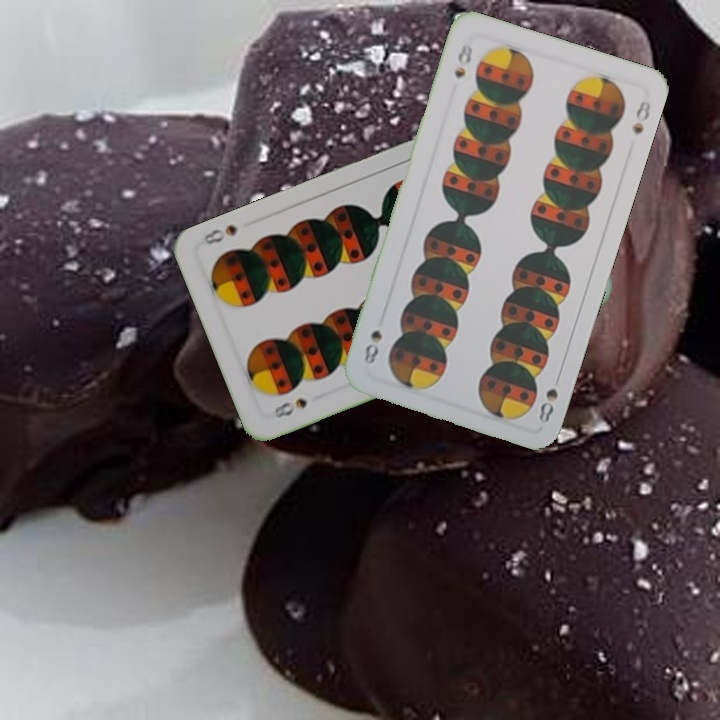S8: (534, 368, 564, 426), (268, 394, 311, 421), (450, 39, 476, 81)
